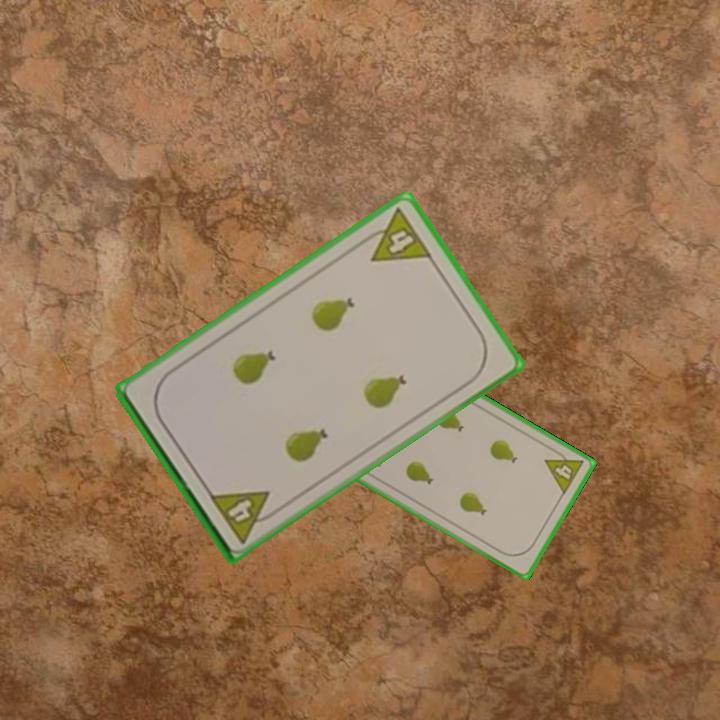4p: (356, 204, 435, 265), (205, 486, 282, 546), (541, 444, 587, 498)
